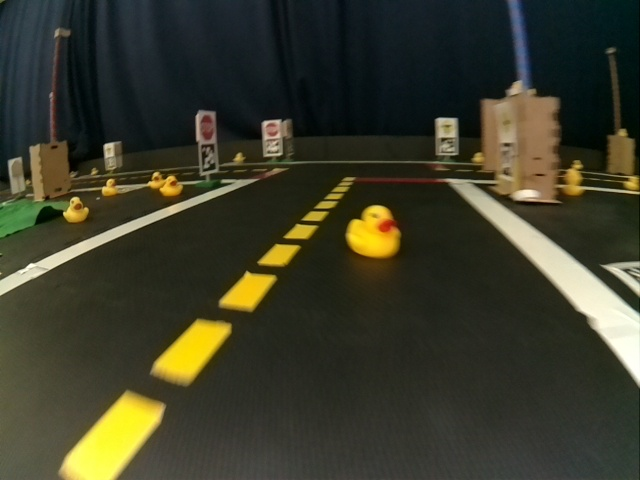Duckie: (347, 204, 400, 257), (64, 198, 89, 222), (162, 176, 182, 197), (102, 178, 118, 196)
Intersection sign: (440, 118, 456, 135)
QR code: (198, 147, 218, 172), (264, 139, 278, 154)
Stop sign: (200, 113, 215, 139), (263, 121, 280, 137)
